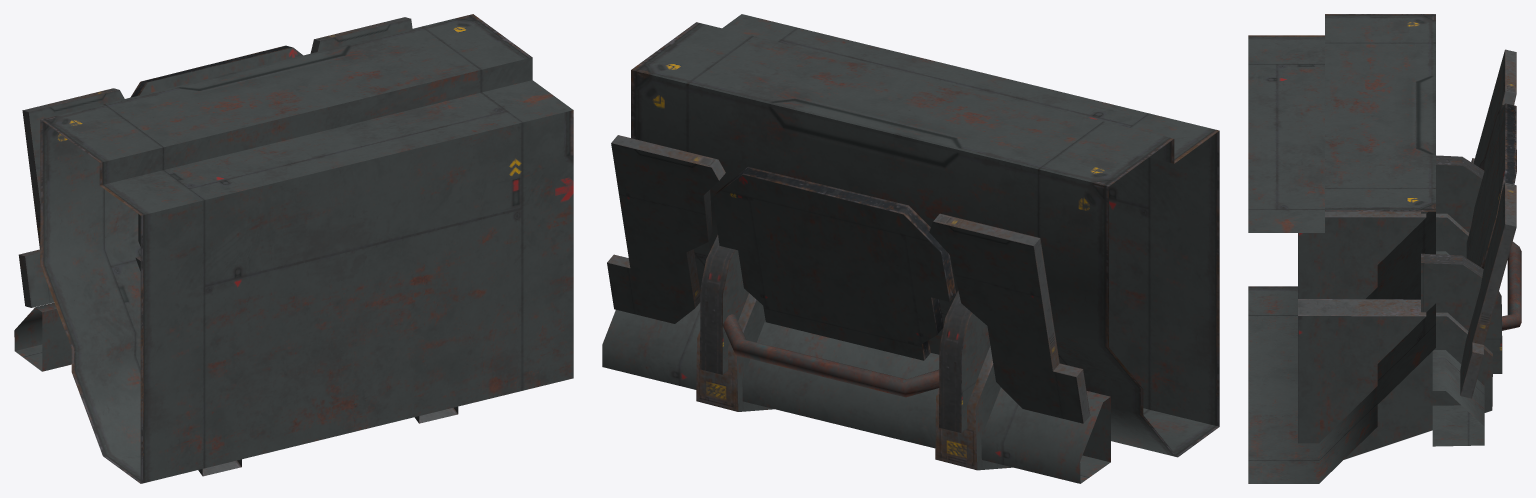
The model's file is ARC0910163.fbx.
3 renders of one model, left to right at view 1: azimuth 30°, elevation 25°; view 2: azimuth 150°, elevation 25°; view 3: azimuth 270°, elevation 25°, orthographic. The views are drawn at different scales.
Visible parts, largest first — view 1: smARC0910163; view 2: smARC0910163; view 3: smARC0910163.
Boxes of the visible parts, <box> form: smARC0910163: <box>14,14,573,483</box>; smARC0910163: <box>602,14,1219,483</box>; smARC0910163: <box>1248,14,1521,483</box>.
Size of the model in its own units: 400 by 287 by 234.
1 material, 1 textured.
